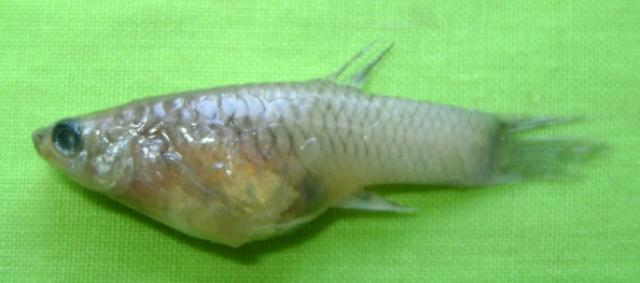Mulut: (10, 112, 66, 182)
Sirip Anal: (325, 160, 425, 233)
Sirip Ekor: (452, 86, 624, 212)
Sirip Punggung: (293, 25, 395, 97)
